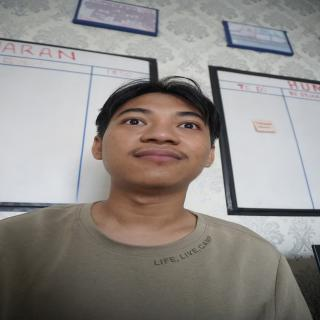Marah: (105, 91, 215, 192)
